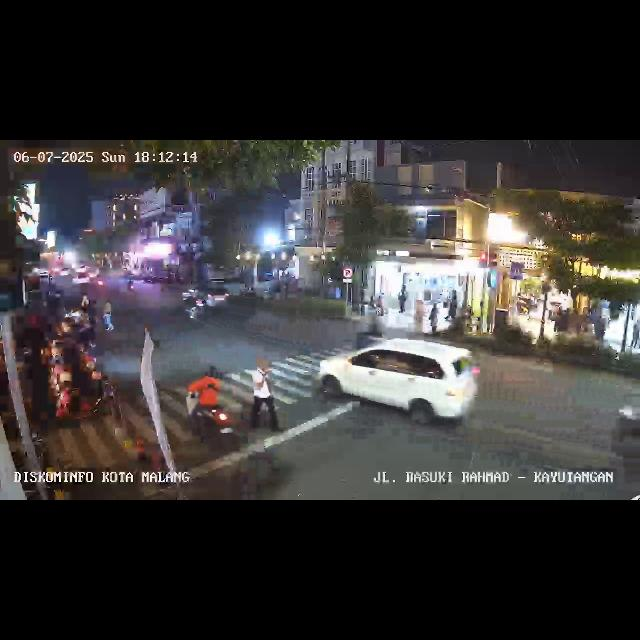car: (314, 338, 480, 429), (182, 284, 230, 312)
motorcycle: (184, 364, 236, 456), (182, 290, 205, 320)
person: (248, 356, 286, 436), (100, 298, 116, 334), (446, 294, 458, 328), (412, 298, 423, 334), (428, 302, 438, 334), (632, 316, 640, 352), (398, 286, 407, 314)
